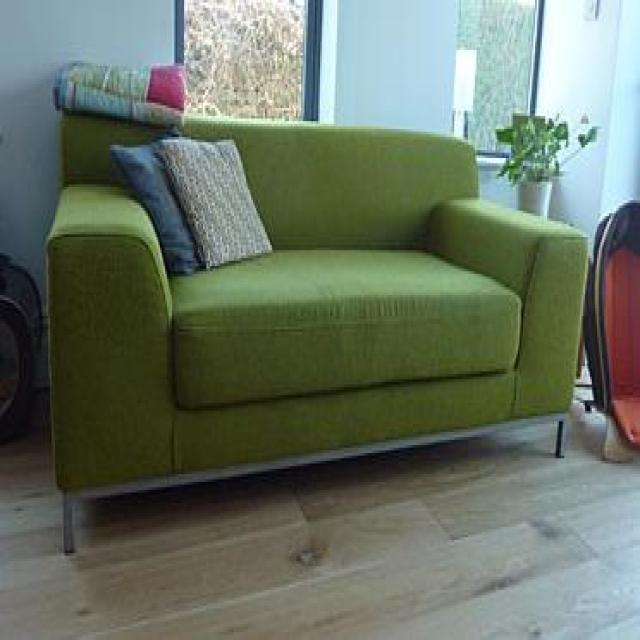sofa: (44, 94, 589, 555)
